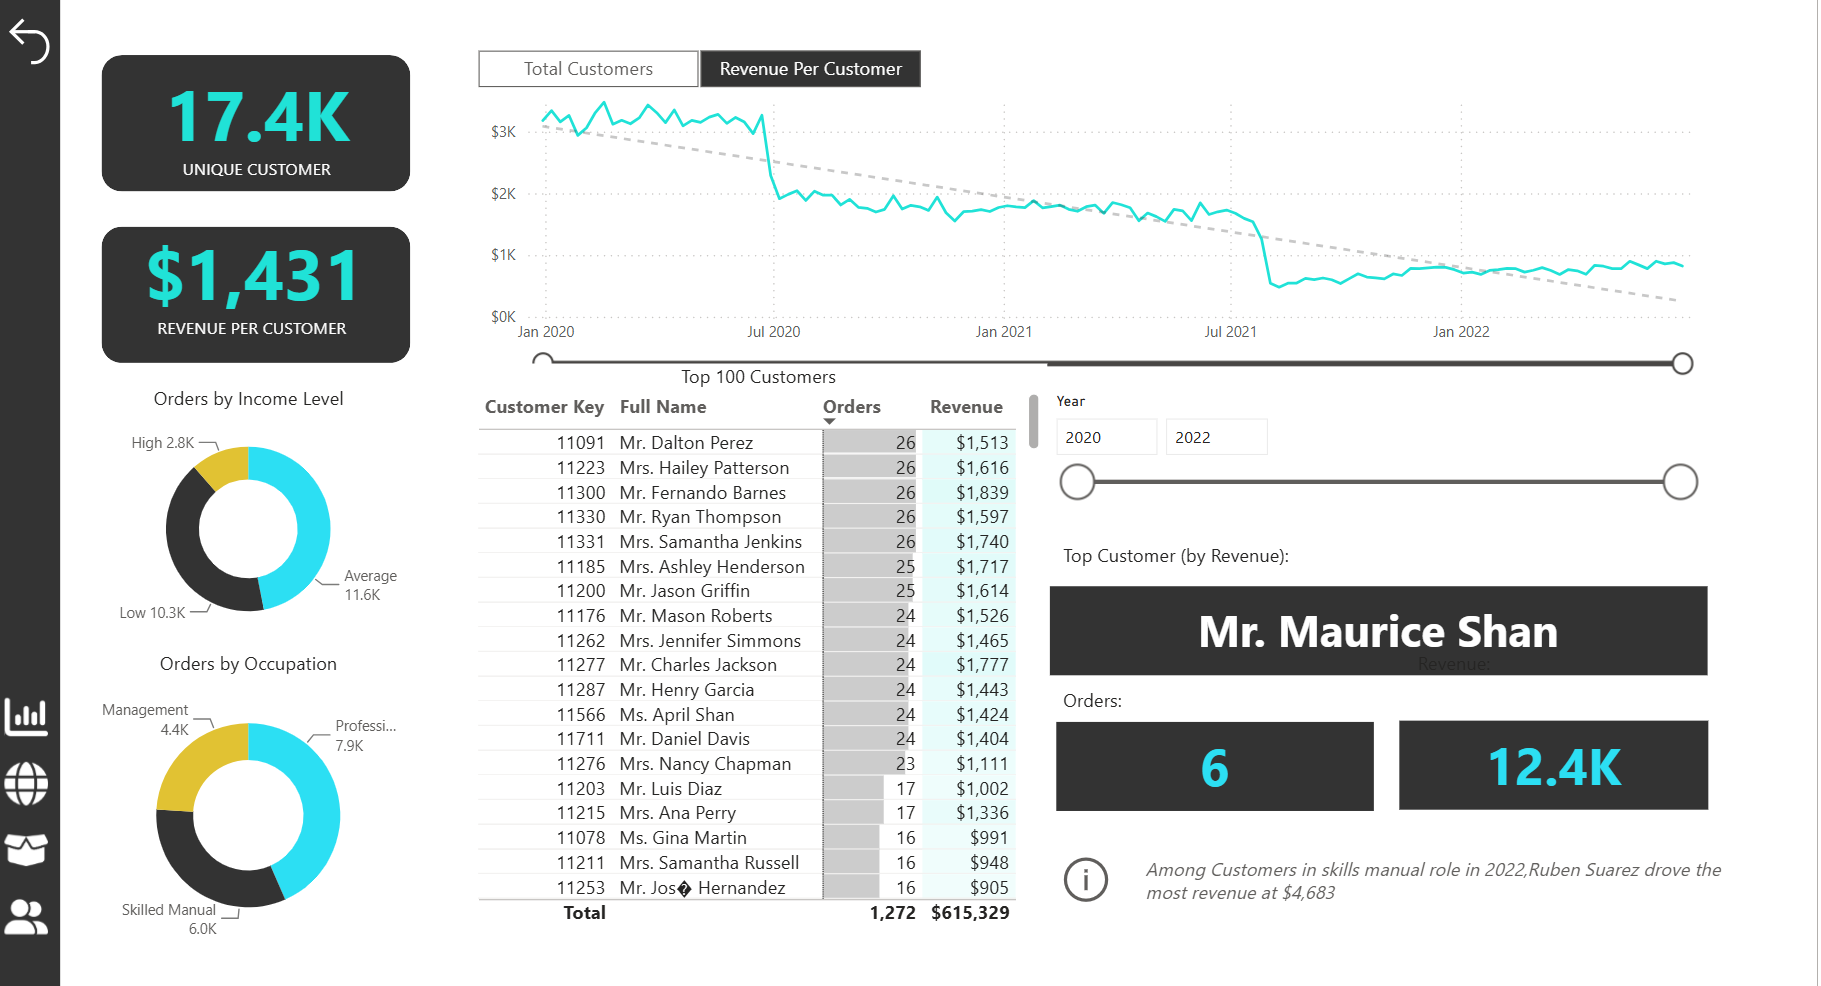

This screenshot's page, from the dashboard's own definition file:
{"tool":"powerbi","page":{"name":"Customer Detail ","canvas":[1280,720],"ordinal":3},"visuals":[{"type":"shape","box":[0,0,44.8,719.8],"z":0},{"type":"actionButton","box":[0,502.2,62.2,39.8],"z":0,"group":"g1"},{"type":"shape","box":[74.4,40.4,225,99.5],"z":1000},{"type":"actionButton","box":[0,599.2,62.2,39.8],"z":1000,"group":"g1"},{"type":"shape","box":[74.6,165.3,225,99.5],"z":2000},{"type":"actionButton","box":[0,647.7,62.2,39.8],"z":2000,"group":"g1"},{"type":"card","fields":{"Values":["Calendar Lookup.Average Revenue Per Customer"]},"box":[64.6,130.5,243.7,150.4],"z":3000},{"type":"actionButton","box":[0,550.7,62.2,39.8],"z":3000,"group":"g1"},{"type":"card","fields":{"Values":["Measure Table.Total Customers"]},"box":[65.9,14.9,243.7,150.4],"z":4000},{"type":"lineChart","fields":{"Category":["Calendar Lookup.Date Hierarchy.Start of Year","Calendar Lookup.Date Hierarchy.Start of Month","Calendar Lookup.Date Hierarchy.Start of Week","Calendar Lookup.Date Hierarchy.Date"],"Y":["Calendar Lookup.Average Revenue Per Customer"]},"box":[353.1,59.7,898.8,216.3],"z":5000},{"type":"donutChart","title":"Orders by Income Level","fields":{"Category":["Customer Lookup.Income Level"],"Y":["Measure Table.Total Orders"]},"box":[64.6,281,235,192.7],"z":6000},{"type":"donutChart","title":"Orders by Occupation","fields":{"Category":["Customer Lookup.Occupation"],"Y":["Measure Table.Total Orders"]},"box":[64.6,473.7,235,223.8],"z":7000},{"type":"tableEx","title":"Top 100 Customers","fields":{"Values":["Customer Lookup.CustomerKey","Customer Lookup.Full Name","Measure Table.Total Orders","Measure Table.Total Revenue"]},"box":[343.1,264.8,420.2,412.7],"z":8000},{"type":"card","fields":{"Values":["Customer Lookup.Full Name (Customer Detail)"]},"box":[765.5,426.5,478.6,64.6],"z":9000},{"type":"card","fields":{"Values":["Measure Table.Total Revenue (Customer Detail)"]},"box":[1020.1,524.9,225,64.6],"z":10000},{"type":"card","fields":{"Values":["Measure Table.Total Orders (Customer Detail)"]},"box":[769.4,525.8,231.2,64.6],"z":11000},{"type":"textbox","box":[769.4,390.3,231.2,29.8],"z":12000},{"type":"textbox","box":[1027.8,468.8,231.2,29.8],"z":13000},{"type":"textbox","box":[769.4,496,231.2,29.8],"z":14000},{"type":"slicer","fields":{"Values":["Calendar Lookup.Year"]},"box":[757.1,281,488.6,88.3],"z":15000},{"type":"actionButton","box":[769.5,619.1,511,43.5],"z":16000},{"type":"actionButton","box":[0,0,44.8,59.7],"z":17000},{"type":"group","id":"g1","title":"Navigation Buttons","box":[0,502.2,62.2,185.2],"z":18000},{"type":"slicer","fields":{"Values":["Customer Metric Selection.Customer Metric Selection"]},"box":[323.2,29.8,371.7,39.8],"z":18501}]}

Visuals, with their boxes on the page's 1280x720 design canvas (x1, y1, x2, y2). These are canvas units, not pixel positions in the 1821x986 screenshot, which may show the page scaled, cropped or inside an application window:
shape: [0, 0, 45, 720]
actionButton: [0, 502, 62, 542]
shape: [74, 40, 299, 140]
actionButton: [0, 599, 62, 639]
shape: [75, 165, 300, 265]
actionButton: [0, 648, 62, 688]
card - Calendar Lookup.Average Revenue Per Customer: [65, 130, 308, 281]
actionButton: [0, 551, 62, 590]
card - Measure Table.Total Customers: [66, 15, 310, 165]
lineChart - Calendar Lookup.Date Hierarchy.Start of Year x Calendar Lookup.Date Hierarchy.Start of Month: [353, 60, 1252, 276]
"Orders by Income Level" donutChart: [65, 281, 300, 474]
"Orders by Occupation" donutChart: [65, 474, 300, 698]
"Top 100 Customers" tableEx: [343, 265, 763, 678]
card - Customer Lookup.Full Name (Customer Detail): [766, 426, 1244, 491]
card - Measure Table.Total Revenue (Customer Detail): [1020, 525, 1245, 590]
card - Measure Table.Total Orders (Customer Detail): [769, 526, 1001, 590]
textbox: [769, 390, 1001, 420]
textbox: [1028, 469, 1259, 499]
textbox: [769, 496, 1001, 526]
slicer - Calendar Lookup.Year: [757, 281, 1246, 369]
actionButton: [770, 619, 1280, 663]
actionButton: [0, 0, 45, 60]
"Navigation Buttons" group: [0, 502, 62, 687]
slicer - Customer Metric Selection.Customer Metric Selection: [323, 30, 695, 70]
